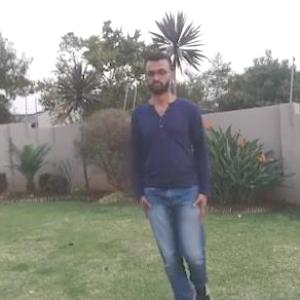follow: (138, 48, 206, 299)
